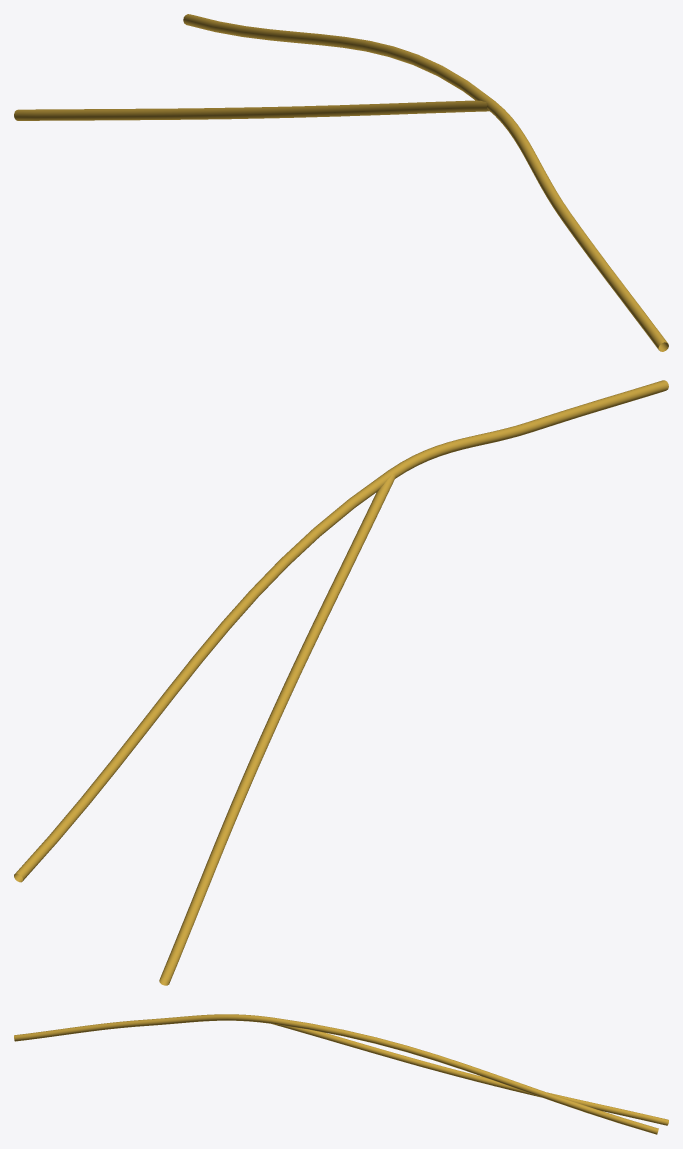
3 renders of one model, top to bottom at view 1: azimuth 30°, elevation 25°; view 2: azimuth 150°, elevation 25°; view 3: azimuth 270°, elevation 25°, orthographic. The views are drawn at different scales.
Parts seen in each view (by area): view 1: 左侧尺神经手背支; view 2: 左侧尺神经手背支; view 3: 左侧尺神经手背支.
Part boxes in pixels (x1,y1,x2,y2): 左侧尺神经手背支: (14,14,668,351); 左侧尺神经手背支: (14,380,668,985); 左侧尺神经手背支: (14,1014,668,1134).
Size of the model in its own units: 0.0252 by 0.0355 by 0.1494.
